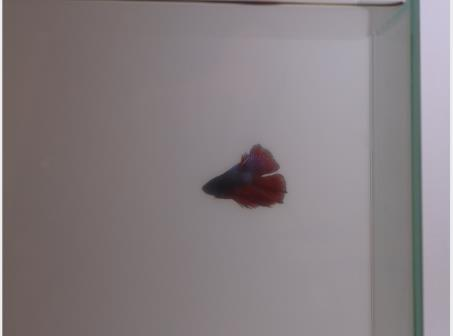fish: (201, 142, 293, 218)
